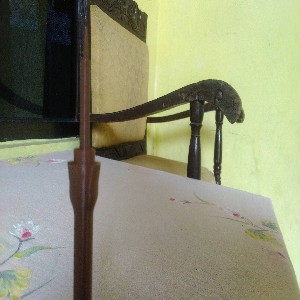solder: (67, 25, 101, 300)
